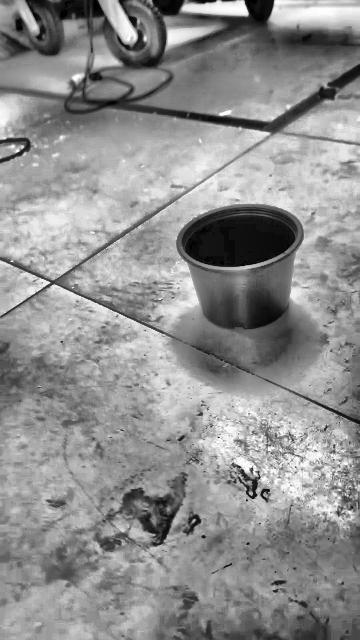pot: (176, 204, 303, 329)
